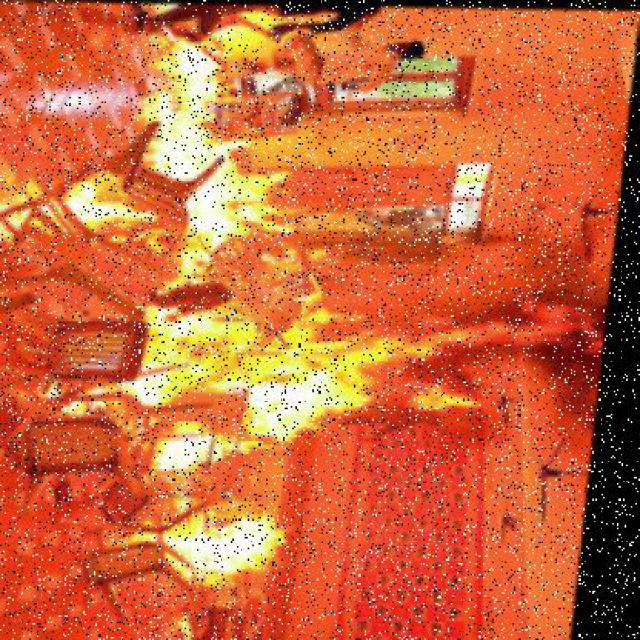fire: (84, 296, 609, 478), (18, 47, 276, 312), (154, 500, 306, 589)
